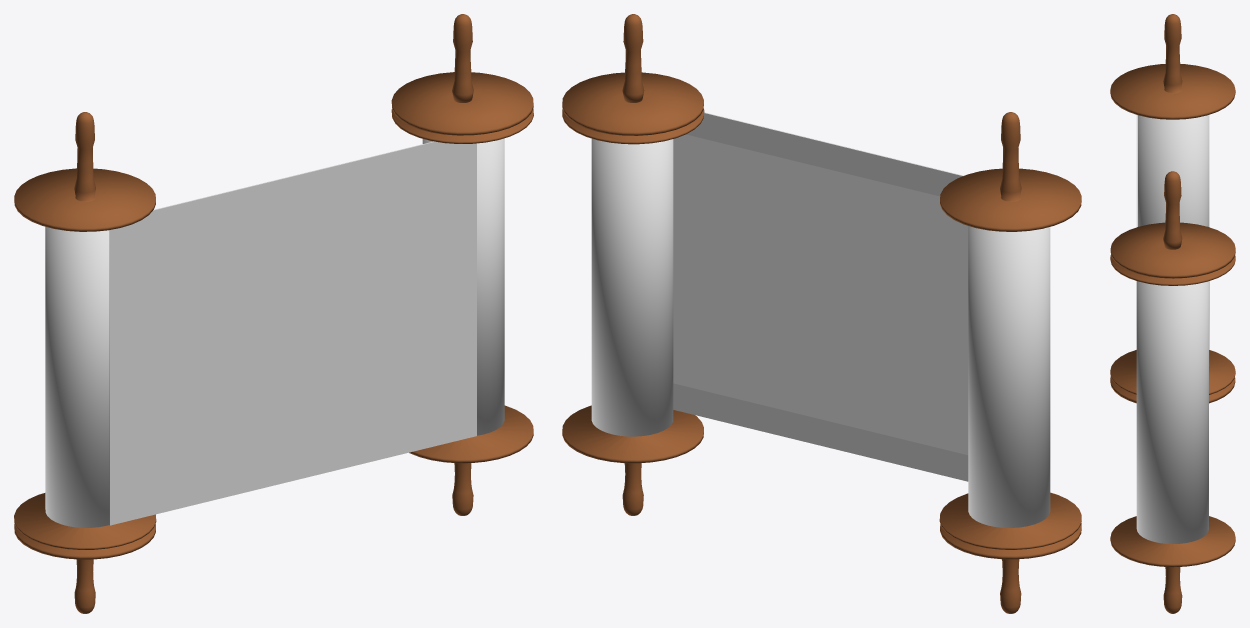
Rendered from toyrah.gltf.
3 renders of one model, left to right at view 1: azimuth 30°, elevation 25°; view 2: azimuth 150°, elevation 25°; view 3: azimuth 270°, elevation 25°, orthographic. The views are drawn at different scales.
Visible parts, largest first — view 1: Plane.014, Cylinder.029, Cylinder.030, Cylinder.031, Cylinder.032; view 2: giveel, Cylinder.029, Cylinder.032, Cylinder.031, Cylinder.030, Plane.014; view 3: Cylinder.032, Cylinder.031, Cylinder.030, Cylinder.029, Plane.014.
Boxes of the visible parts, bbox=[...] form: Plane.014: bbox=[109, 141, 476, 525]; Cylinder.029: bbox=[45, 226, 109, 527]; Cylinder.030: bbox=[14, 112, 156, 613]; Cylinder.031: bbox=[391, 14, 533, 515]; Cylinder.032: bbox=[422, 138, 504, 435]; giveel: bbox=[673, 134, 968, 454]; Cylinder.029: bbox=[968, 226, 1050, 527]; Cylinder.032: bbox=[591, 138, 673, 436]; Cylinder.031: bbox=[562, 14, 704, 515]; Cylinder.030: bbox=[939, 112, 1081, 613]; Plane.014: bbox=[673, 112, 968, 481]; Cylinder.032: bbox=[1136, 281, 1208, 543]; Cylinder.031: bbox=[1110, 171, 1235, 613]; Cylinder.030: bbox=[1110, 14, 1235, 403]; Cylinder.029: bbox=[1138, 115, 1209, 366]; Plane.014: bbox=[1136, 115, 1137, 226].
Size of the model in its own units: 19.71 by 19 by 4.86.
